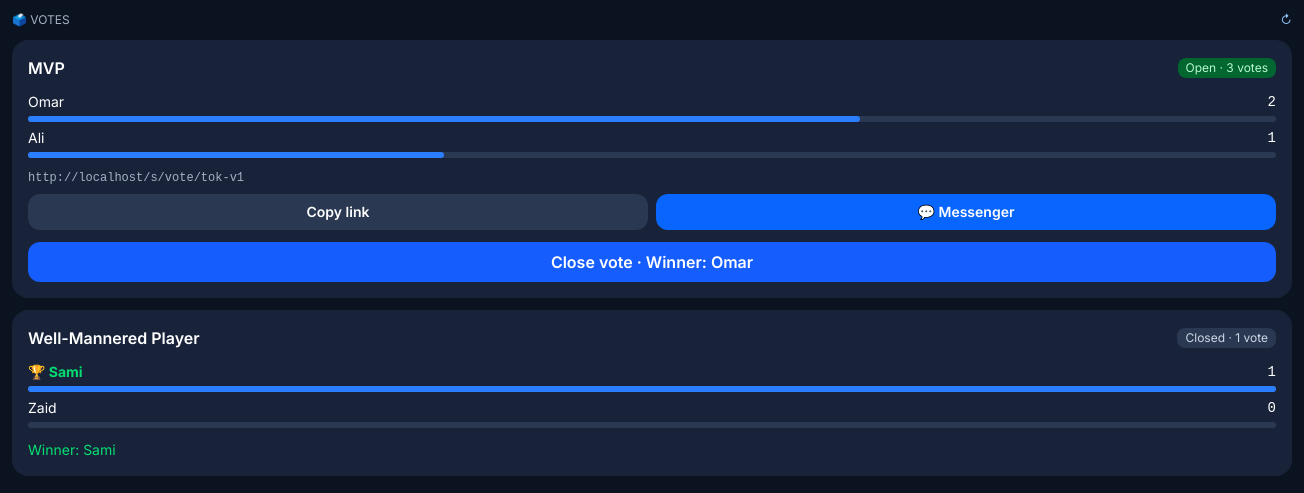
it: closing a vote records the award and shows the vote as closed
Click the button "Close vote · Winner: Omar": (652, 262) x1=28 y1=242 x2=1276 y2=282
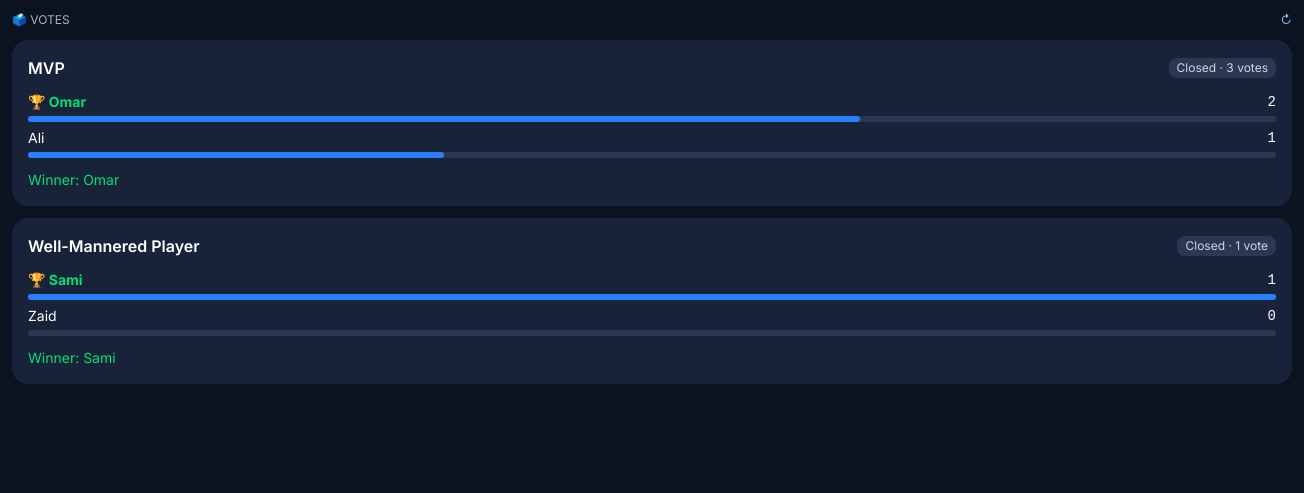
Expected: the text "Winner: Omar" is shown, x1=28 y1=171 x2=119 y2=188
Now the button "Close vote" is gone
